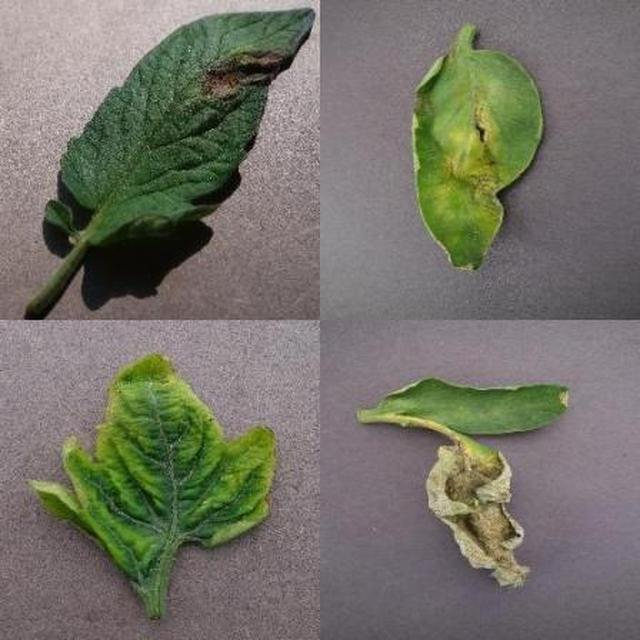Late Blight Leaf: (154, 184, 640, 640)
